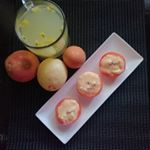cups: (12, 1, 73, 60)
